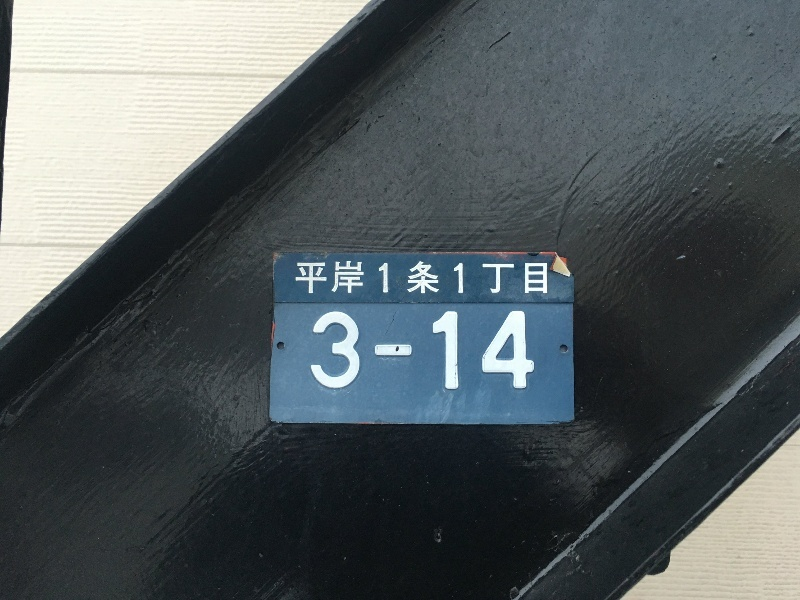text: (321, 307, 336, 401), (337, 307, 352, 401), (353, 307, 368, 401), (369, 307, 384, 401), (385, 307, 400, 401), (401, 307, 416, 401), (417, 307, 432, 401), (433, 307, 448, 401), (449, 307, 464, 401), (465, 307, 480, 401), (481, 307, 496, 401), (497, 307, 512, 401), (513, 307, 528, 401), (308, 307, 320, 401), (529, 307, 537, 401), (305, 254, 320, 301), (321, 254, 336, 301), (337, 254, 352, 301), (353, 254, 368, 301), (369, 254, 384, 301), (385, 254, 400, 301), (401, 254, 416, 301), (417, 254, 432, 301), (433, 254, 448, 301), (449, 254, 464, 301), (465, 254, 480, 301), (481, 254, 496, 301), (497, 254, 512, 301), (513, 254, 528, 301), (529, 254, 544, 301), (291, 254, 304, 301), (545, 254, 553, 301)
